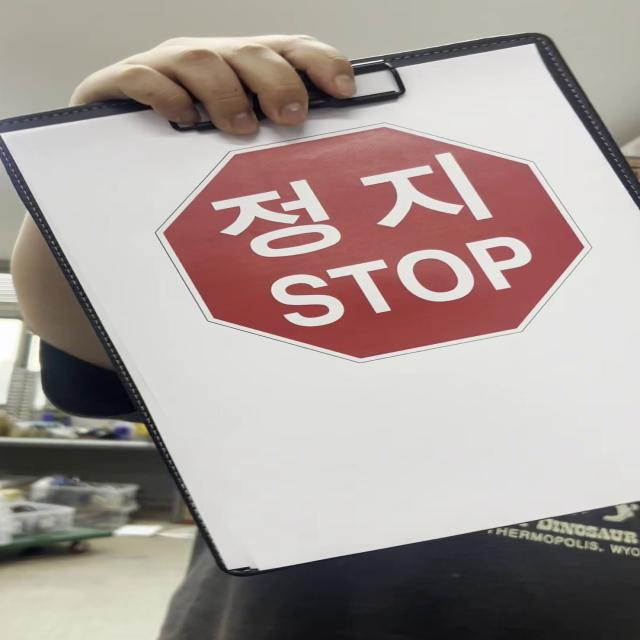stop: (154, 123, 597, 366)
